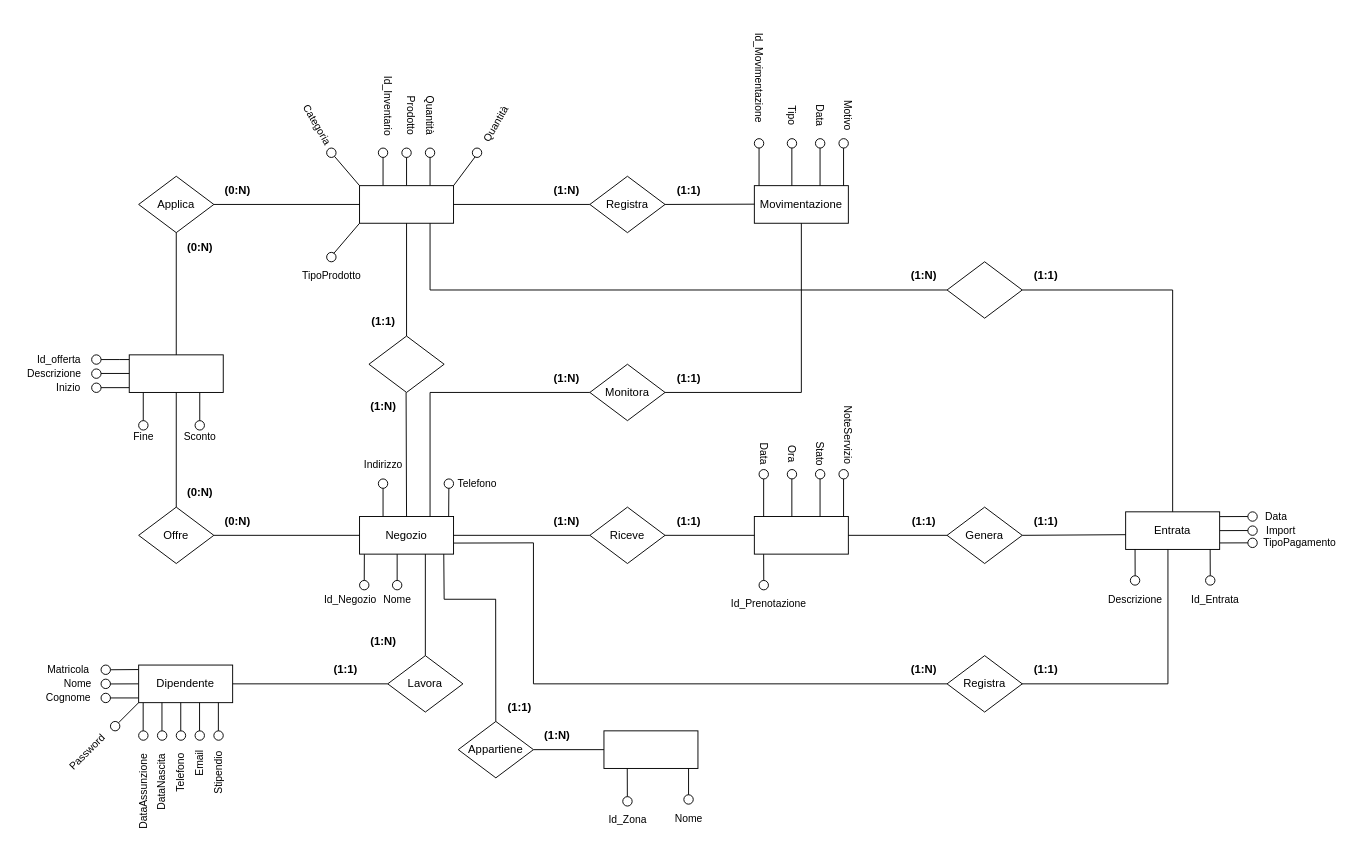
The diagram is 1367 pixels wide and 859 high, and some of its shapes have lost their labels. The shapes that lost their labels are listed below. From the top down, each one's centre as x and y in pixels, then its label:
At pixel 406 204: "Inventario".
At pixel 984 289: "Deriva".
At pixel 175 373: "Offerta".
At pixel 406 363: "Contiene".
At pixel 800 535: "Prenotazione".
At pixel 650 749: "Zona".
